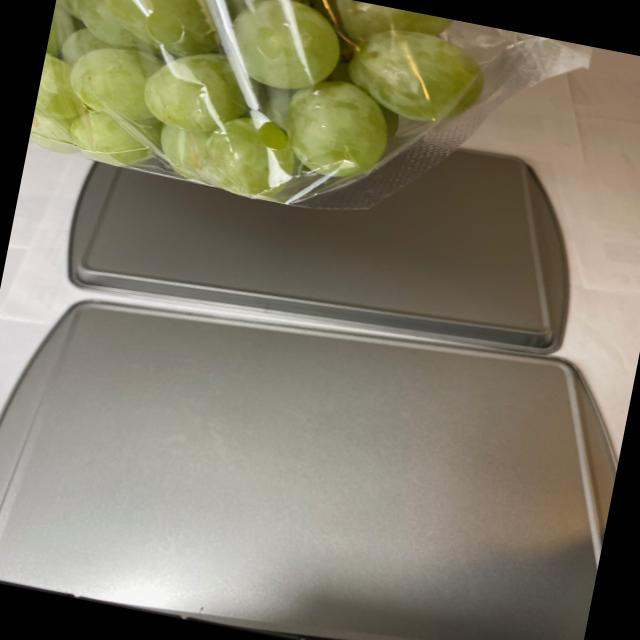grapes: (27, 0, 504, 247)
